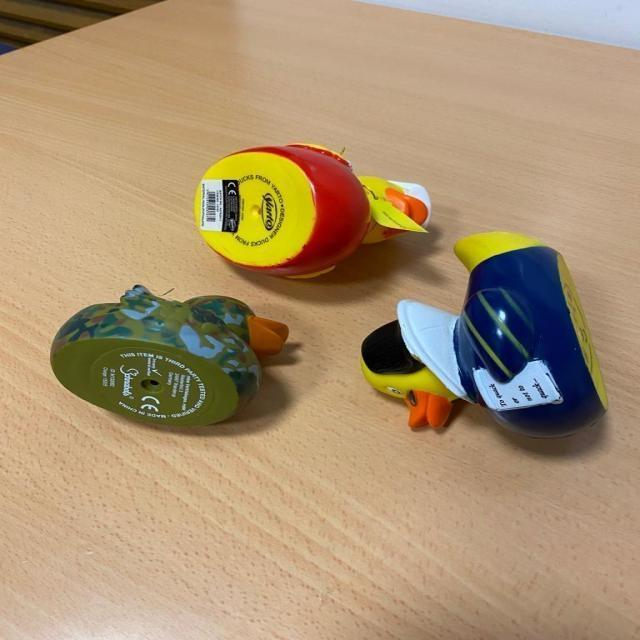rubber-duck: (360, 231, 605, 435), (50, 284, 287, 424), (194, 142, 429, 276)
